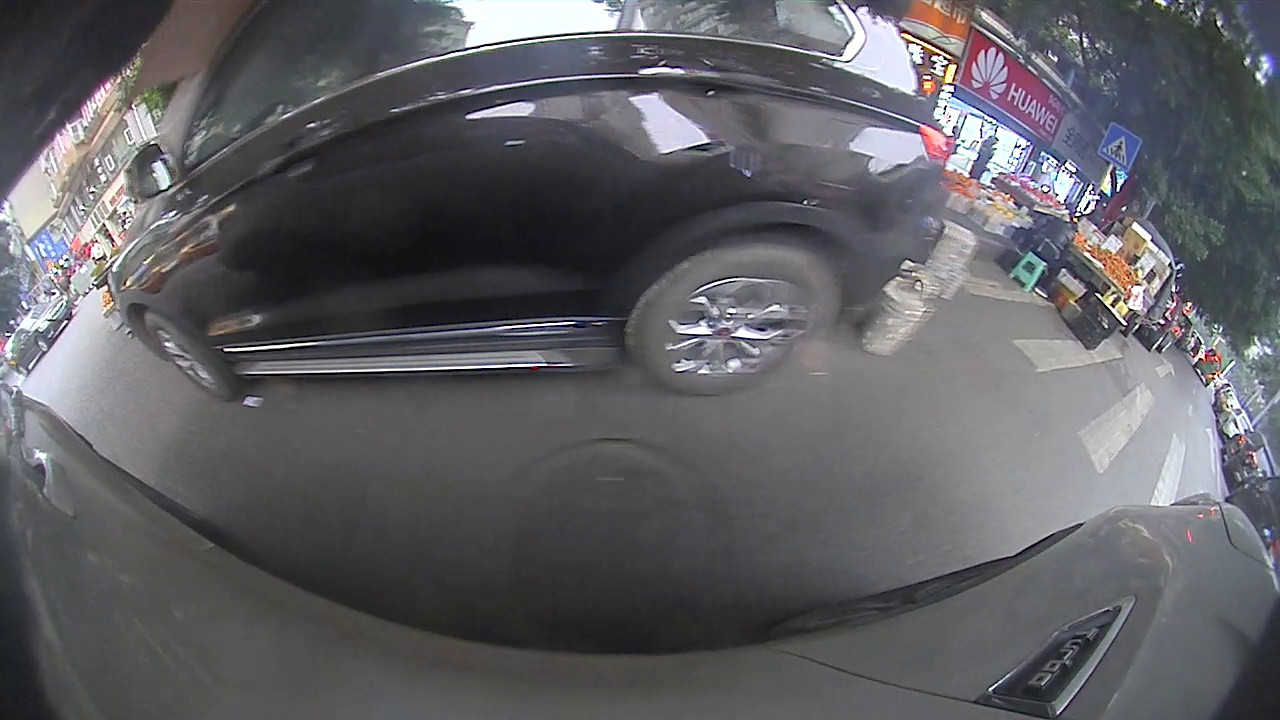car: (106, 3, 955, 402), (10, 296, 74, 378)
front: (136, 309, 233, 401), (33, 337, 49, 353)
rear: (631, 242, 846, 400)
